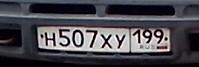license-plateSW: (36, 24, 172, 52)
